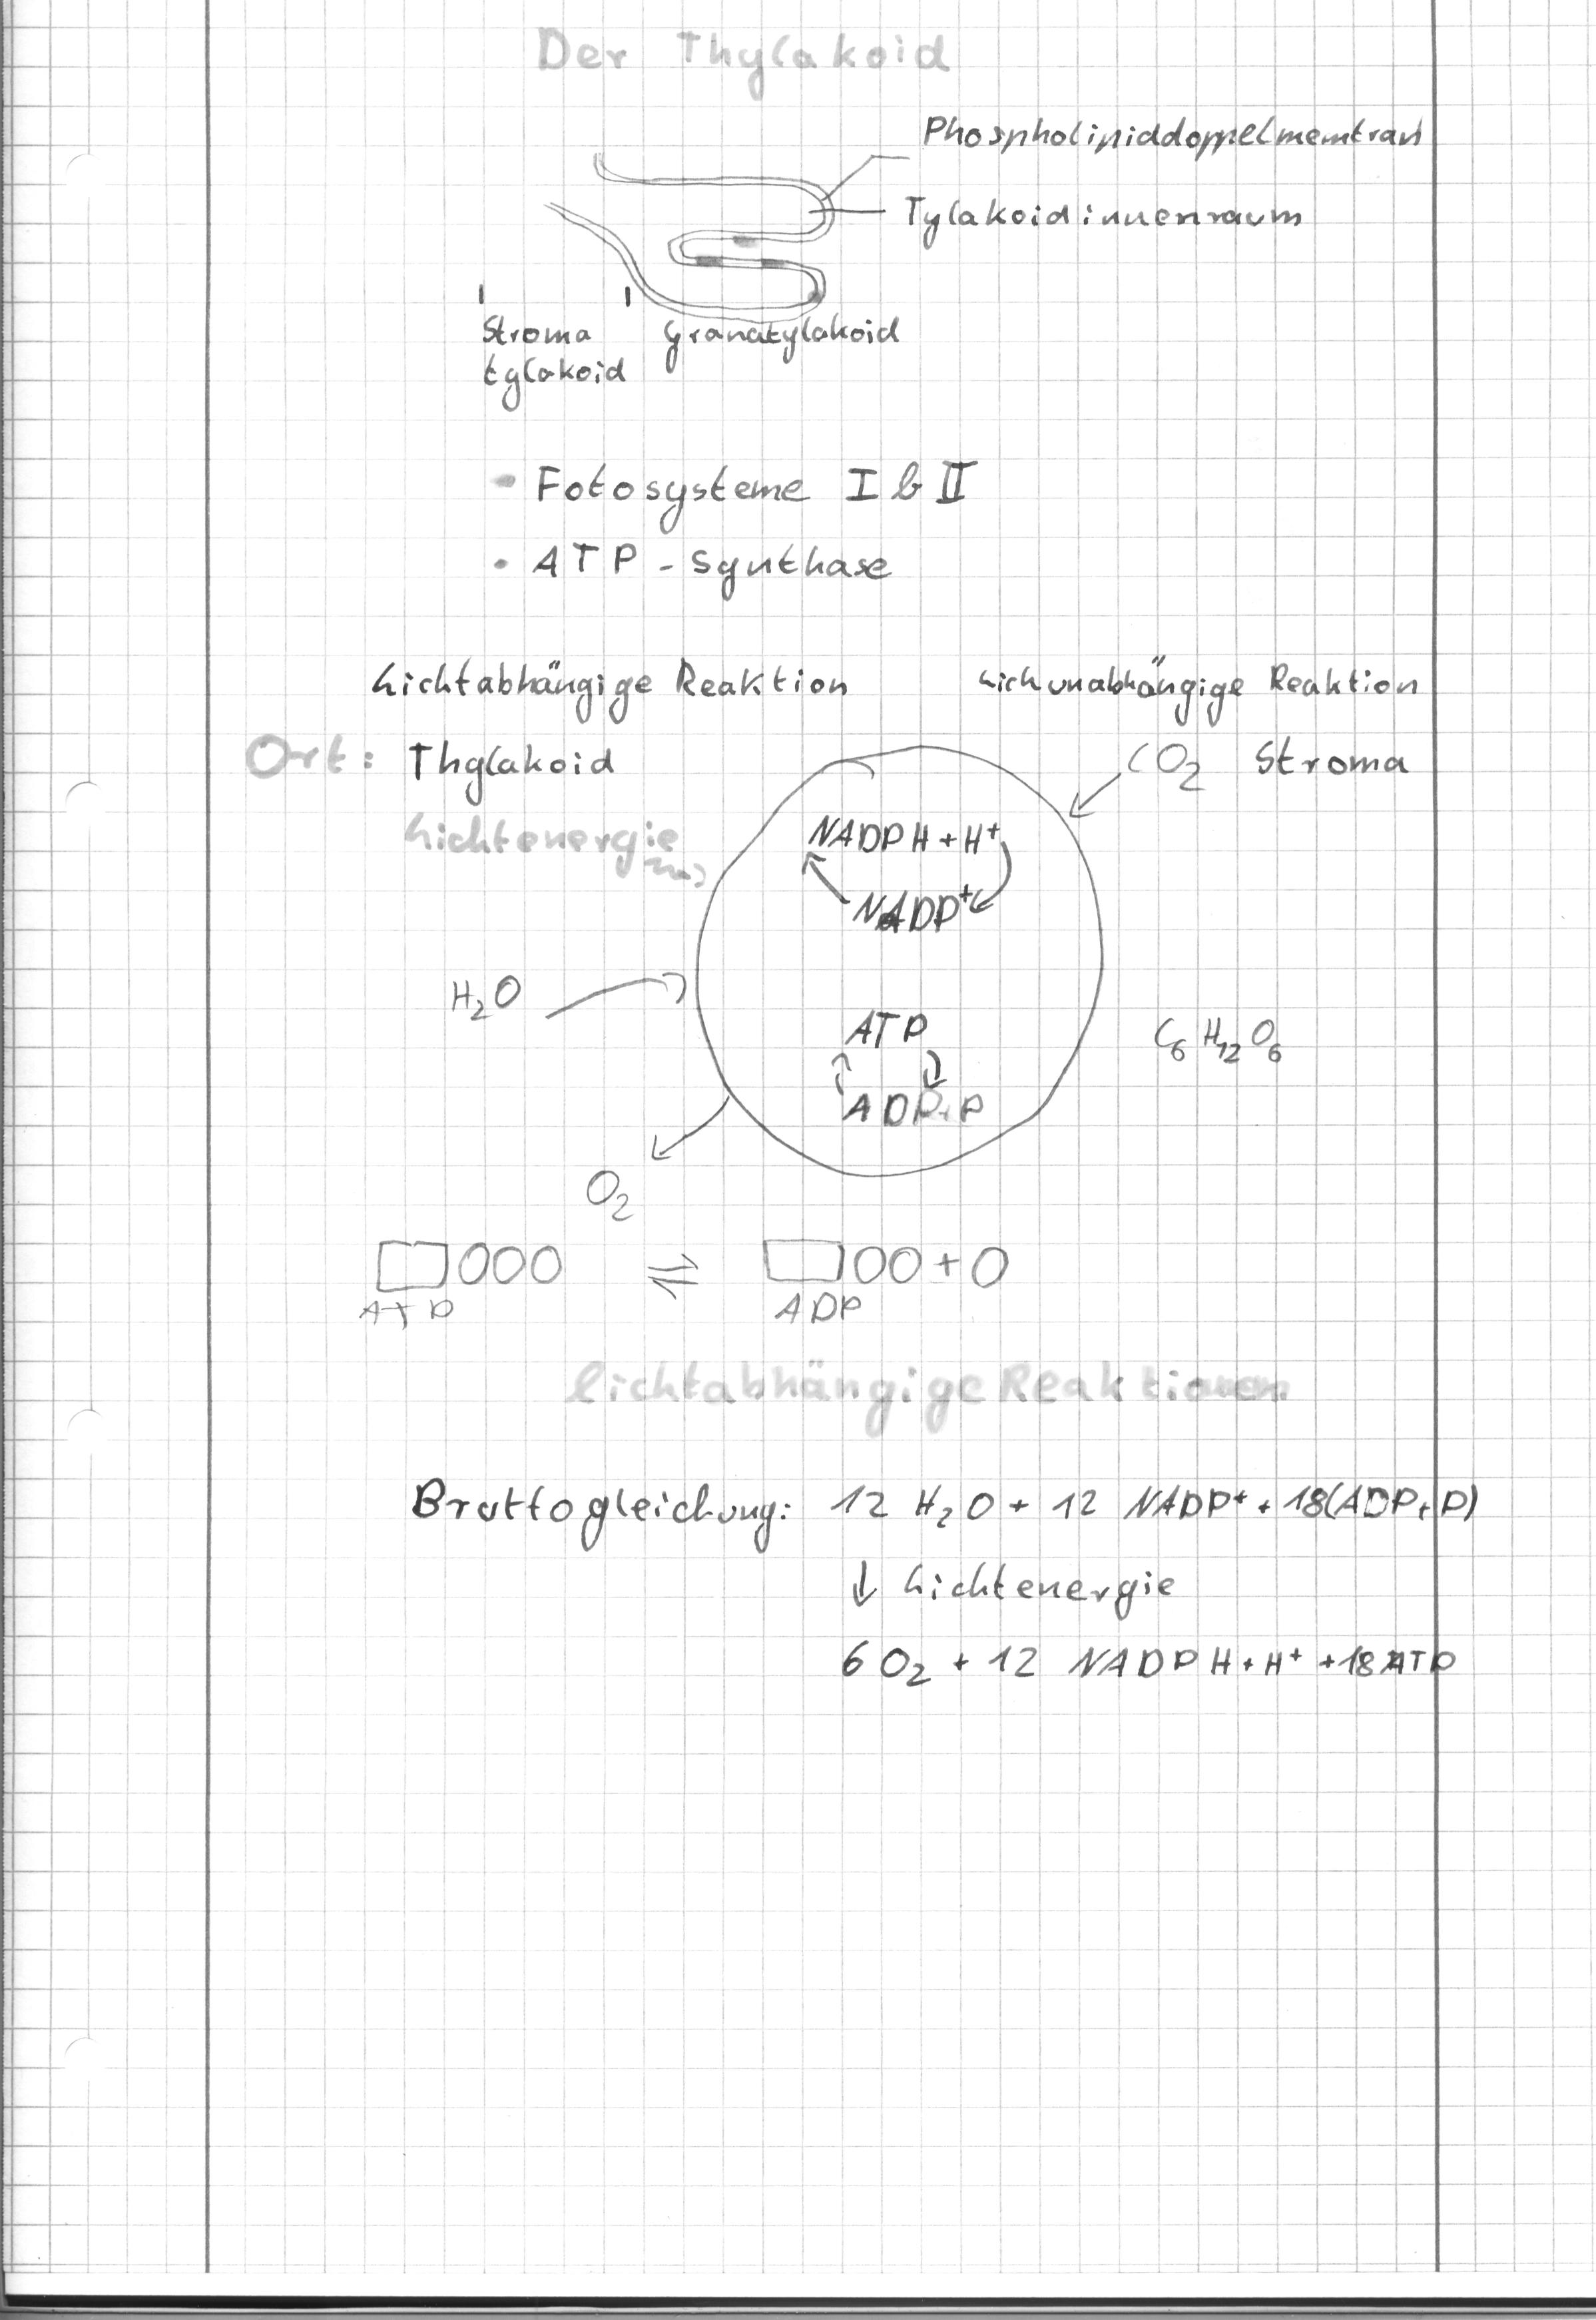word: (825, 1472, 1489, 1701), (894, 101, 1428, 256), (362, 647, 850, 808), (526, 447, 985, 610), (461, 266, 927, 422), (967, 649, 1424, 795), (398, 1457, 802, 1568), (796, 801, 1027, 942), (820, 998, 993, 1121)
